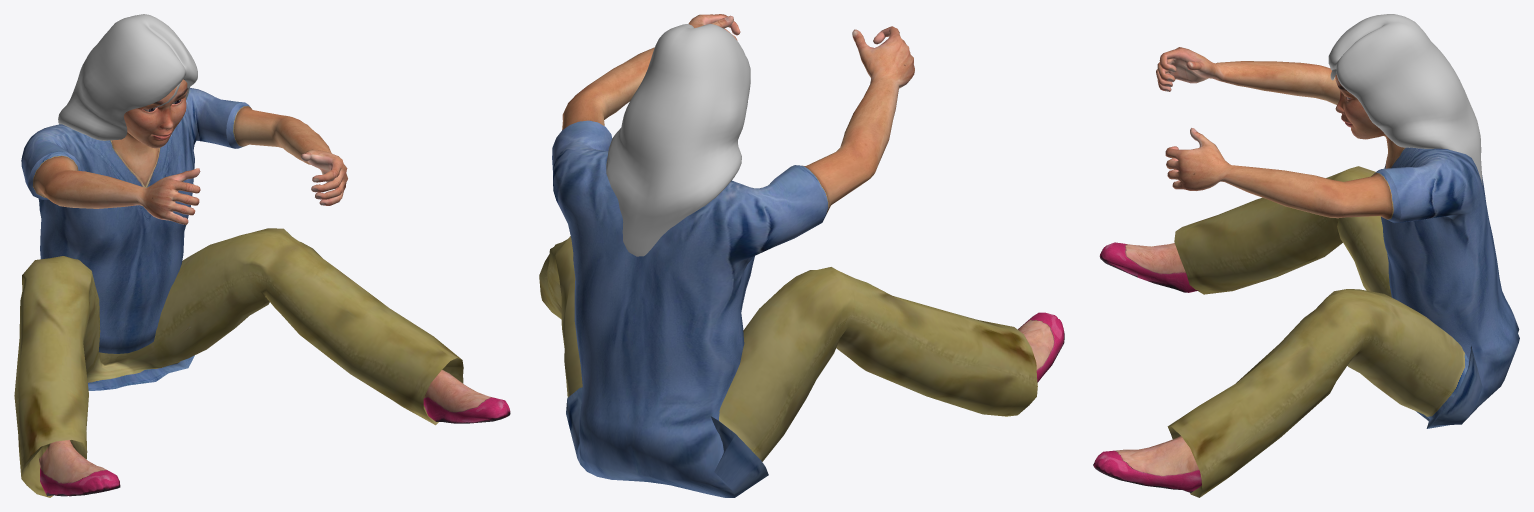
Rendered from GirlNoAnimation.fbx.
The picture shows the model from 3 angles, left to right: view 1: azimuth 30°, elevation 25°; view 2: azimuth 150°, elevation 25°; view 3: azimuth 270°, elevation 25°; orthographic projection. The views are drawn at different scales.
Parts seen in each view (by area): view 1: girl1:H_DDS_MidRes, girl1:l_wig; view 2: girl1:H_DDS_MidRes, girl1:l_wig; view 3: girl1:H_DDS_MidRes, girl1:l_wig.
Boxes of the visible parts, left/top/right/bottom form: girl1:H_DDS_MidRes: left=14, top=79, right=510, bottom=497; girl1:l_wig: left=58, top=14, right=197, bottom=140; girl1:H_DDS_MidRes: left=539, top=14, right=1064, bottom=497; girl1:l_wig: left=606, top=23, right=750, bottom=256; girl1:H_DDS_MidRes: left=1093, top=47, right=1519, bottom=497; girl1:l_wig: left=1328, top=14, right=1482, bottom=185.
Size of the model in its own units: 2.79 by 2.3 by 2.34.
